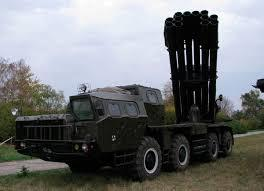MIL_SAM_TEL: (13, 7, 236, 180)
